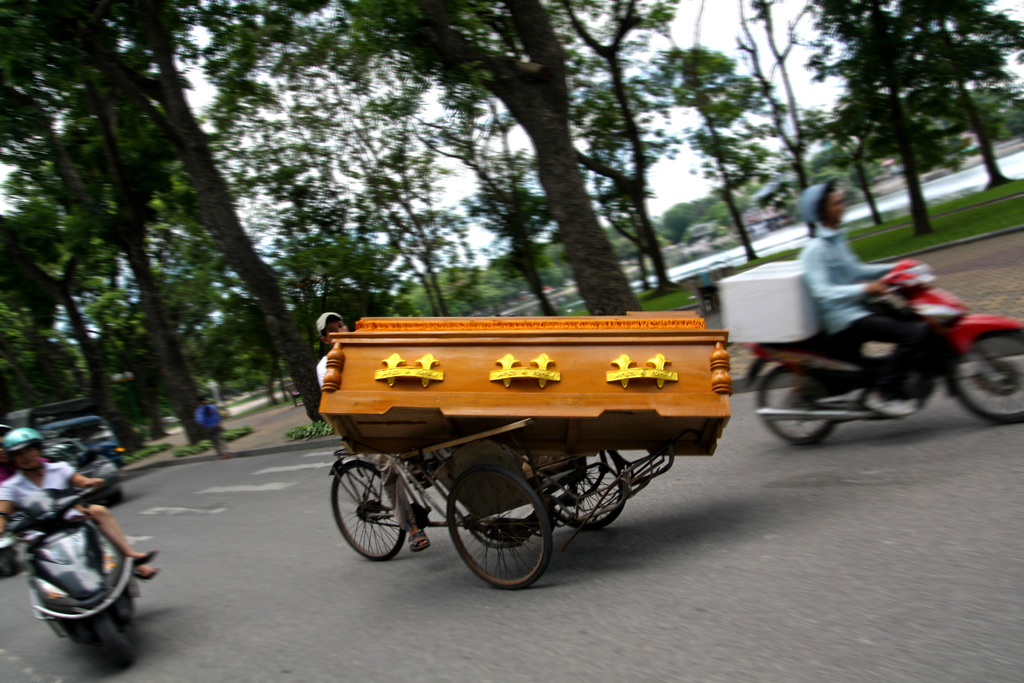Bicycle: (310, 317, 724, 588)
